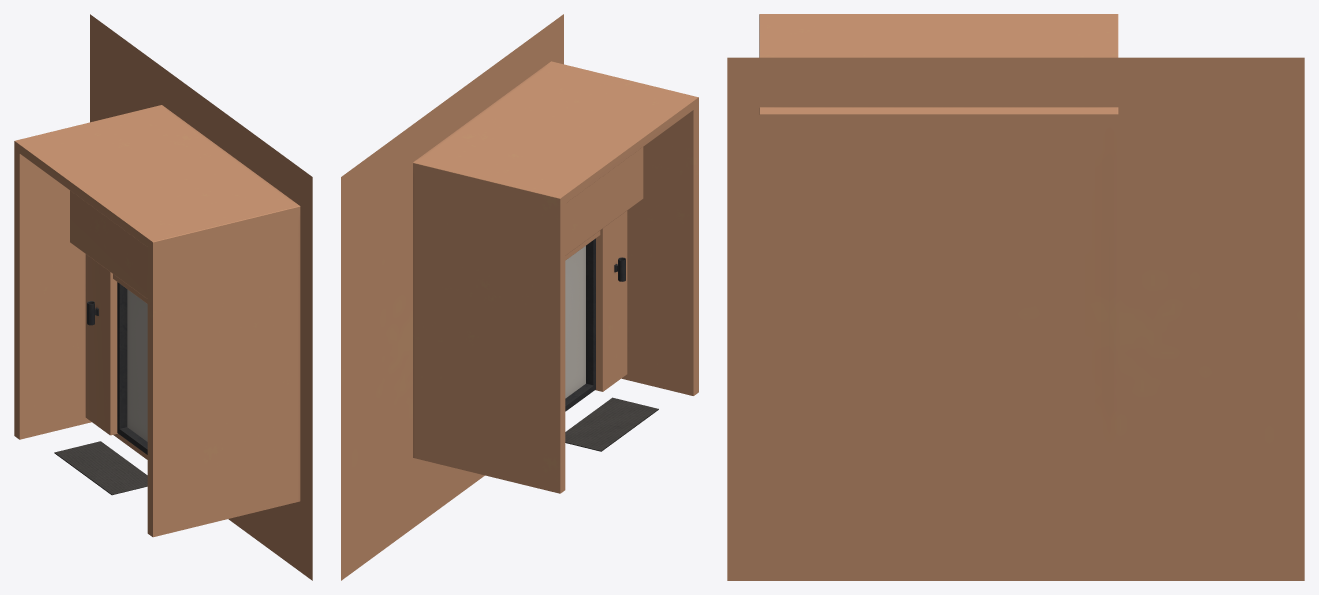
Rendered from CommunityRoomA_Door.fbx.
3 views of the same model, side by side, from view 1: azimuth 30°, elevation 25°; view 2: azimuth 150°, elevation 25°; view 3: azimuth 270°, elevation 25° (orthographic). The views are drawn at different scales.
Parts seen in each view (by area): view 1: CommunityRoomA_Door; view 2: CommunityRoomA_Door; view 3: CommunityRoomA_Door.
Part boxes in pixels (x1=…): CommunityRoomA_Door: x1=14, y1=14, x2=312, y2=580; CommunityRoomA_Door: x1=341, y1=14, x2=698, y2=580; CommunityRoomA_Door: x1=727, y1=14, x2=1304, y2=580.
Bounding box in the file's own units: 239 × 581 × 581.
